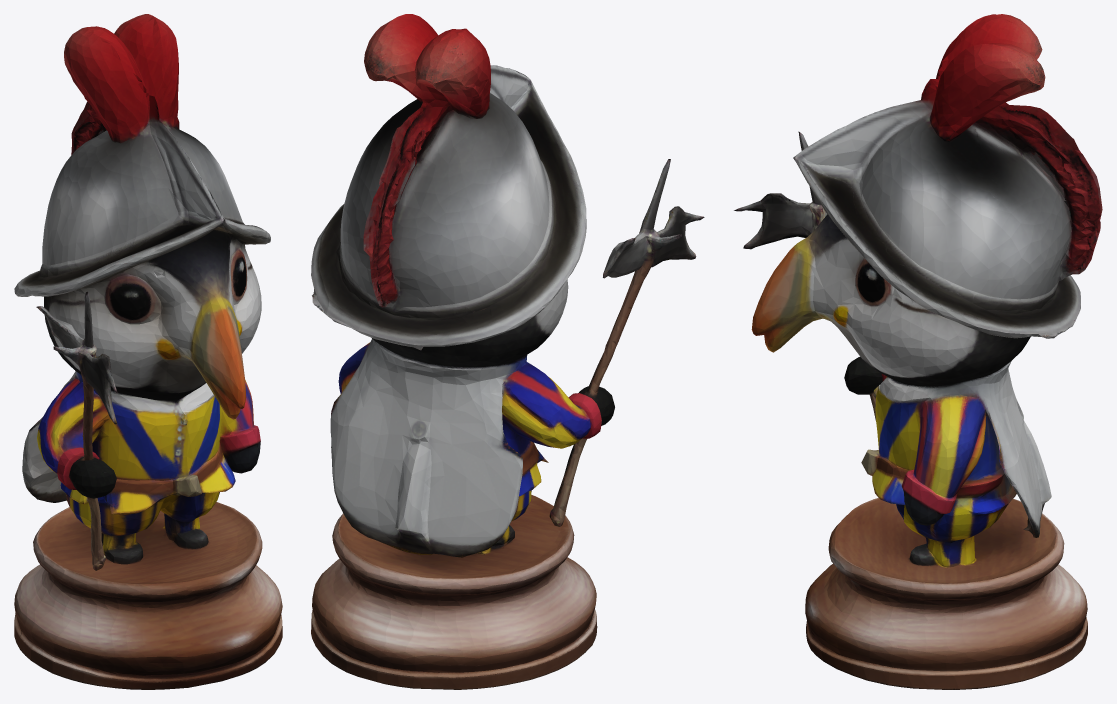
The model's file is A_front.glb.
3 renders of one model, left to right at view 1: azimuth 30°, elevation 25°; view 2: azimuth 150°, elevation 25°; view 3: azimuth 270°, elevation 25°, orthographic. The views are drawn at different scales.
Visible parts, largest first — view 1: world; view 2: world; view 3: world.
Boxes of the visible parts, x1,y1,x2,y2 form: world: [14, 14, 282, 689]; world: [311, 14, 704, 689]; world: [734, 14, 1102, 689].
Size of the model in its own units: 0.4775 by 0.9992 by 0.5537.
Materials: 1 (1 with a texture image).
